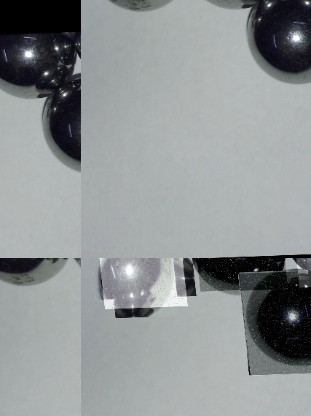ironball: (0, 0, 81, 99), (236, 271, 311, 376), (249, 0, 309, 88), (95, 257, 185, 309), (45, 66, 83, 178), (193, 257, 286, 292), (0, 256, 65, 285), (292, 257, 311, 288)
